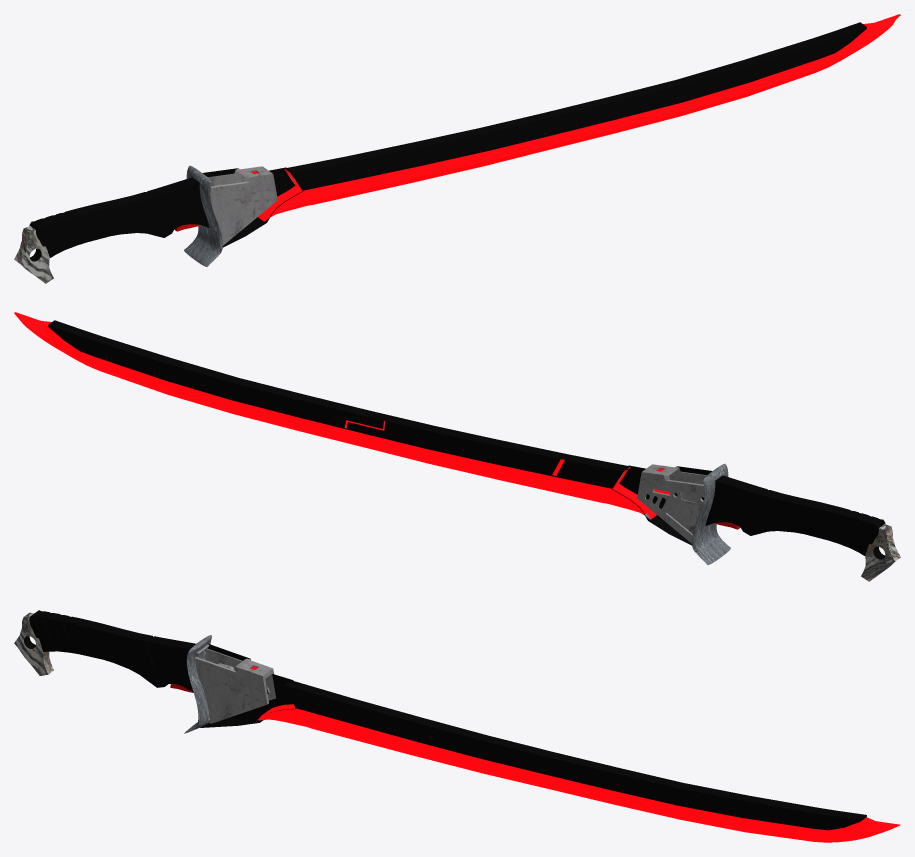
The model's file is red_cyber_katana.glb.
3 views of the same model, one above another, from view 1: azimuth 30°, elevation 25°; view 2: azimuth 150°, elevation 25°; view 3: azimuth 330°, elevation 25° (orthographic).
Visible parts, largest first — view 1: red katana; view 2: red katana; view 3: red katana.
Boxes of the visible parts, x1=… form: red katana: x1=14, y1=14, x2=900, y2=283; red katana: x1=14, y1=312, x2=900, y2=581; red katana: x1=14, y1=610, x2=900, y2=842.
Bounding box in the file's own units: 4.93 × 0.4606 × 0.2271.
Materials: 10 (3 with a texture image).
